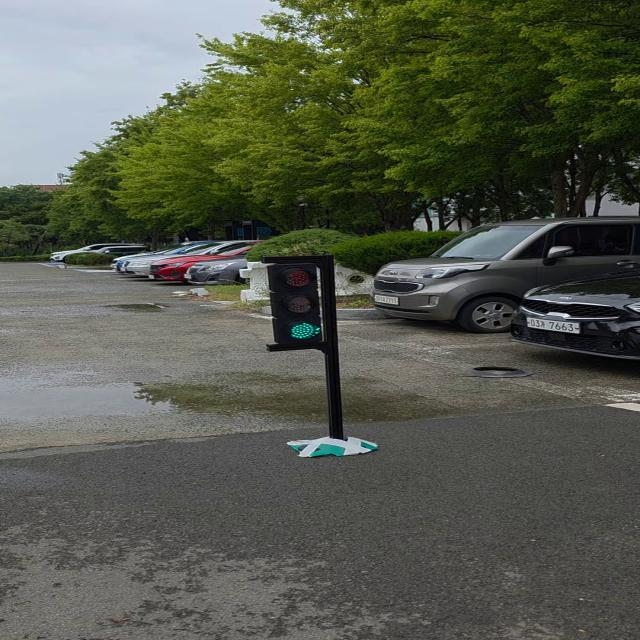green: (271, 260, 339, 348)
